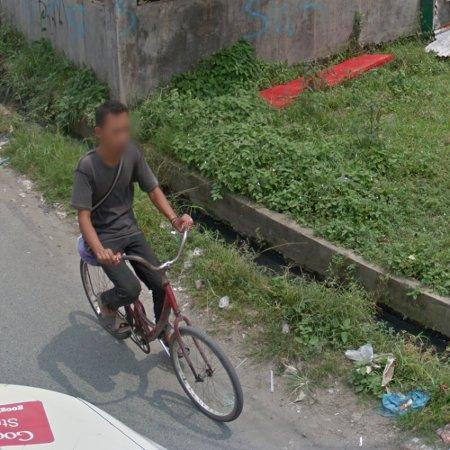bicycles: (119, 230, 244, 423), (81, 261, 111, 316)
